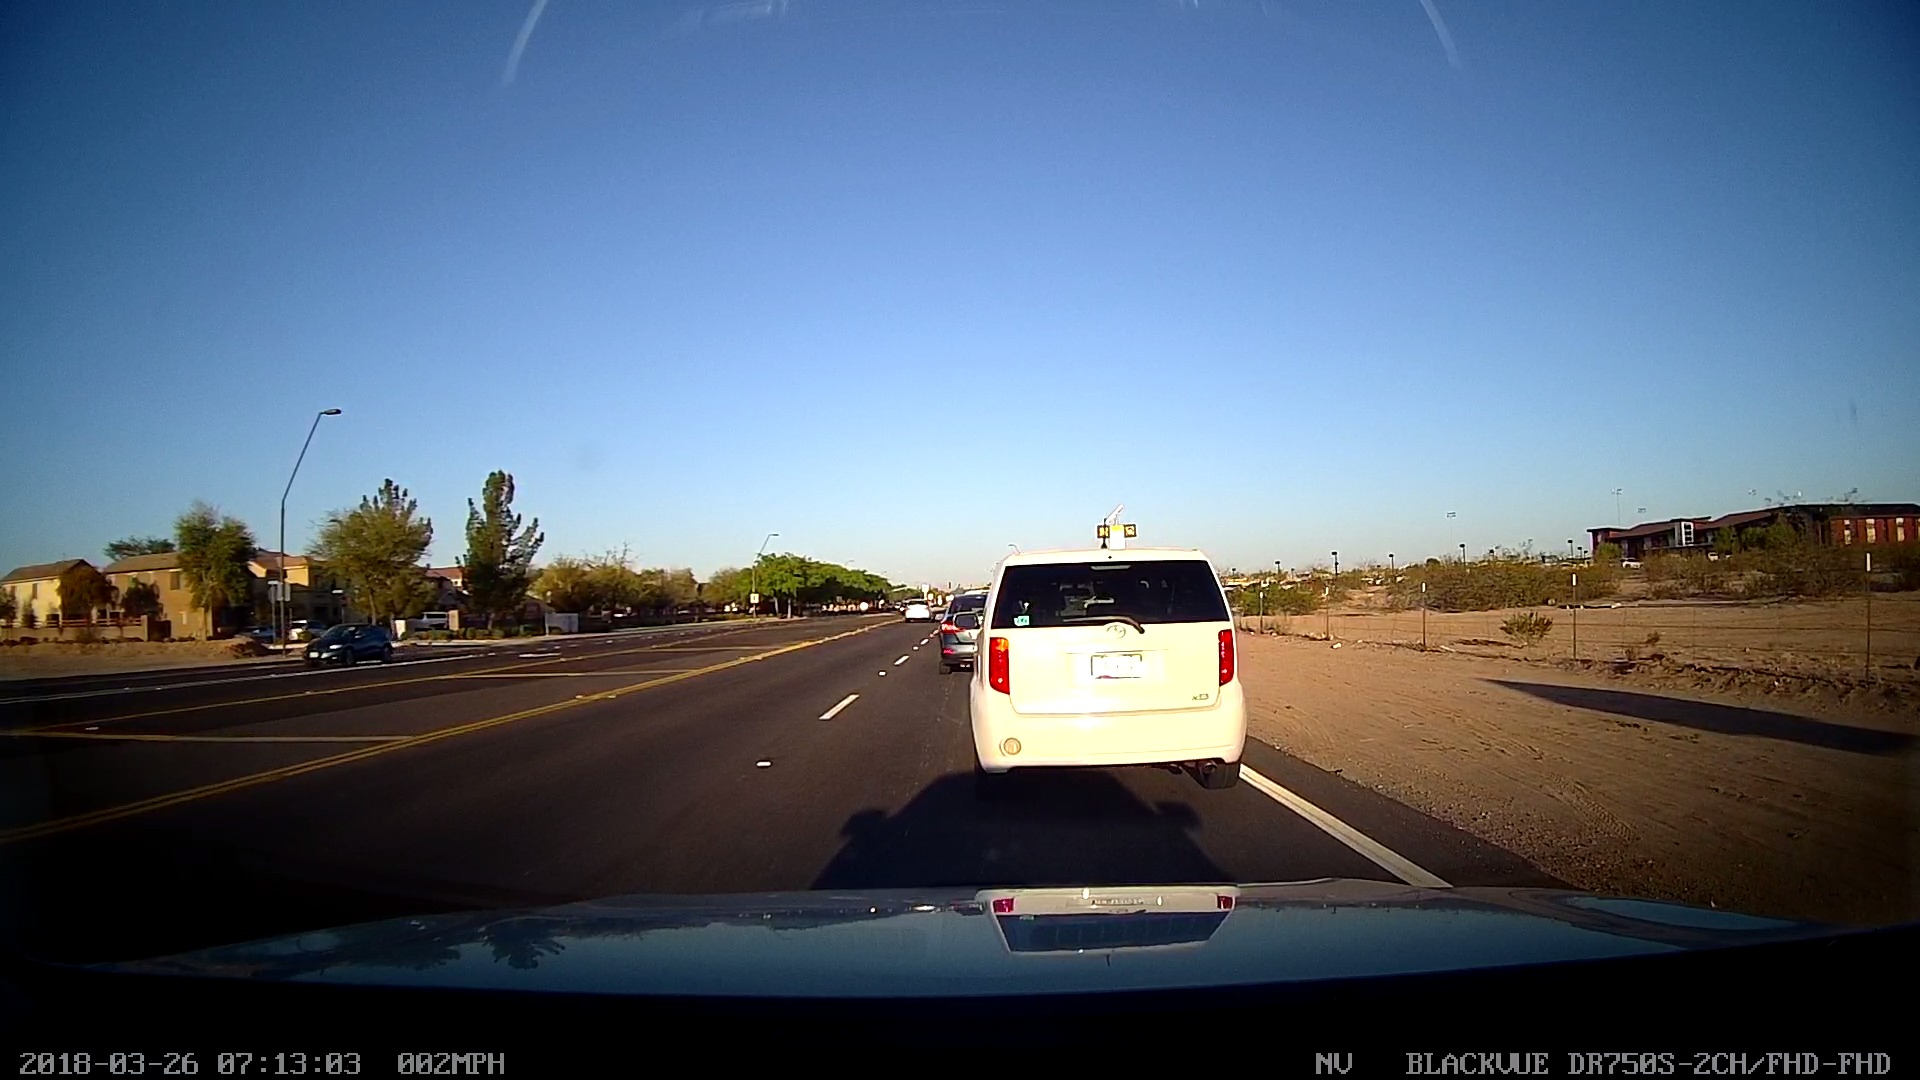plate: (1080, 643, 1156, 686)
vehicle: (962, 537, 1260, 801), (288, 611, 403, 671), (936, 585, 993, 687), (892, 592, 935, 626)
